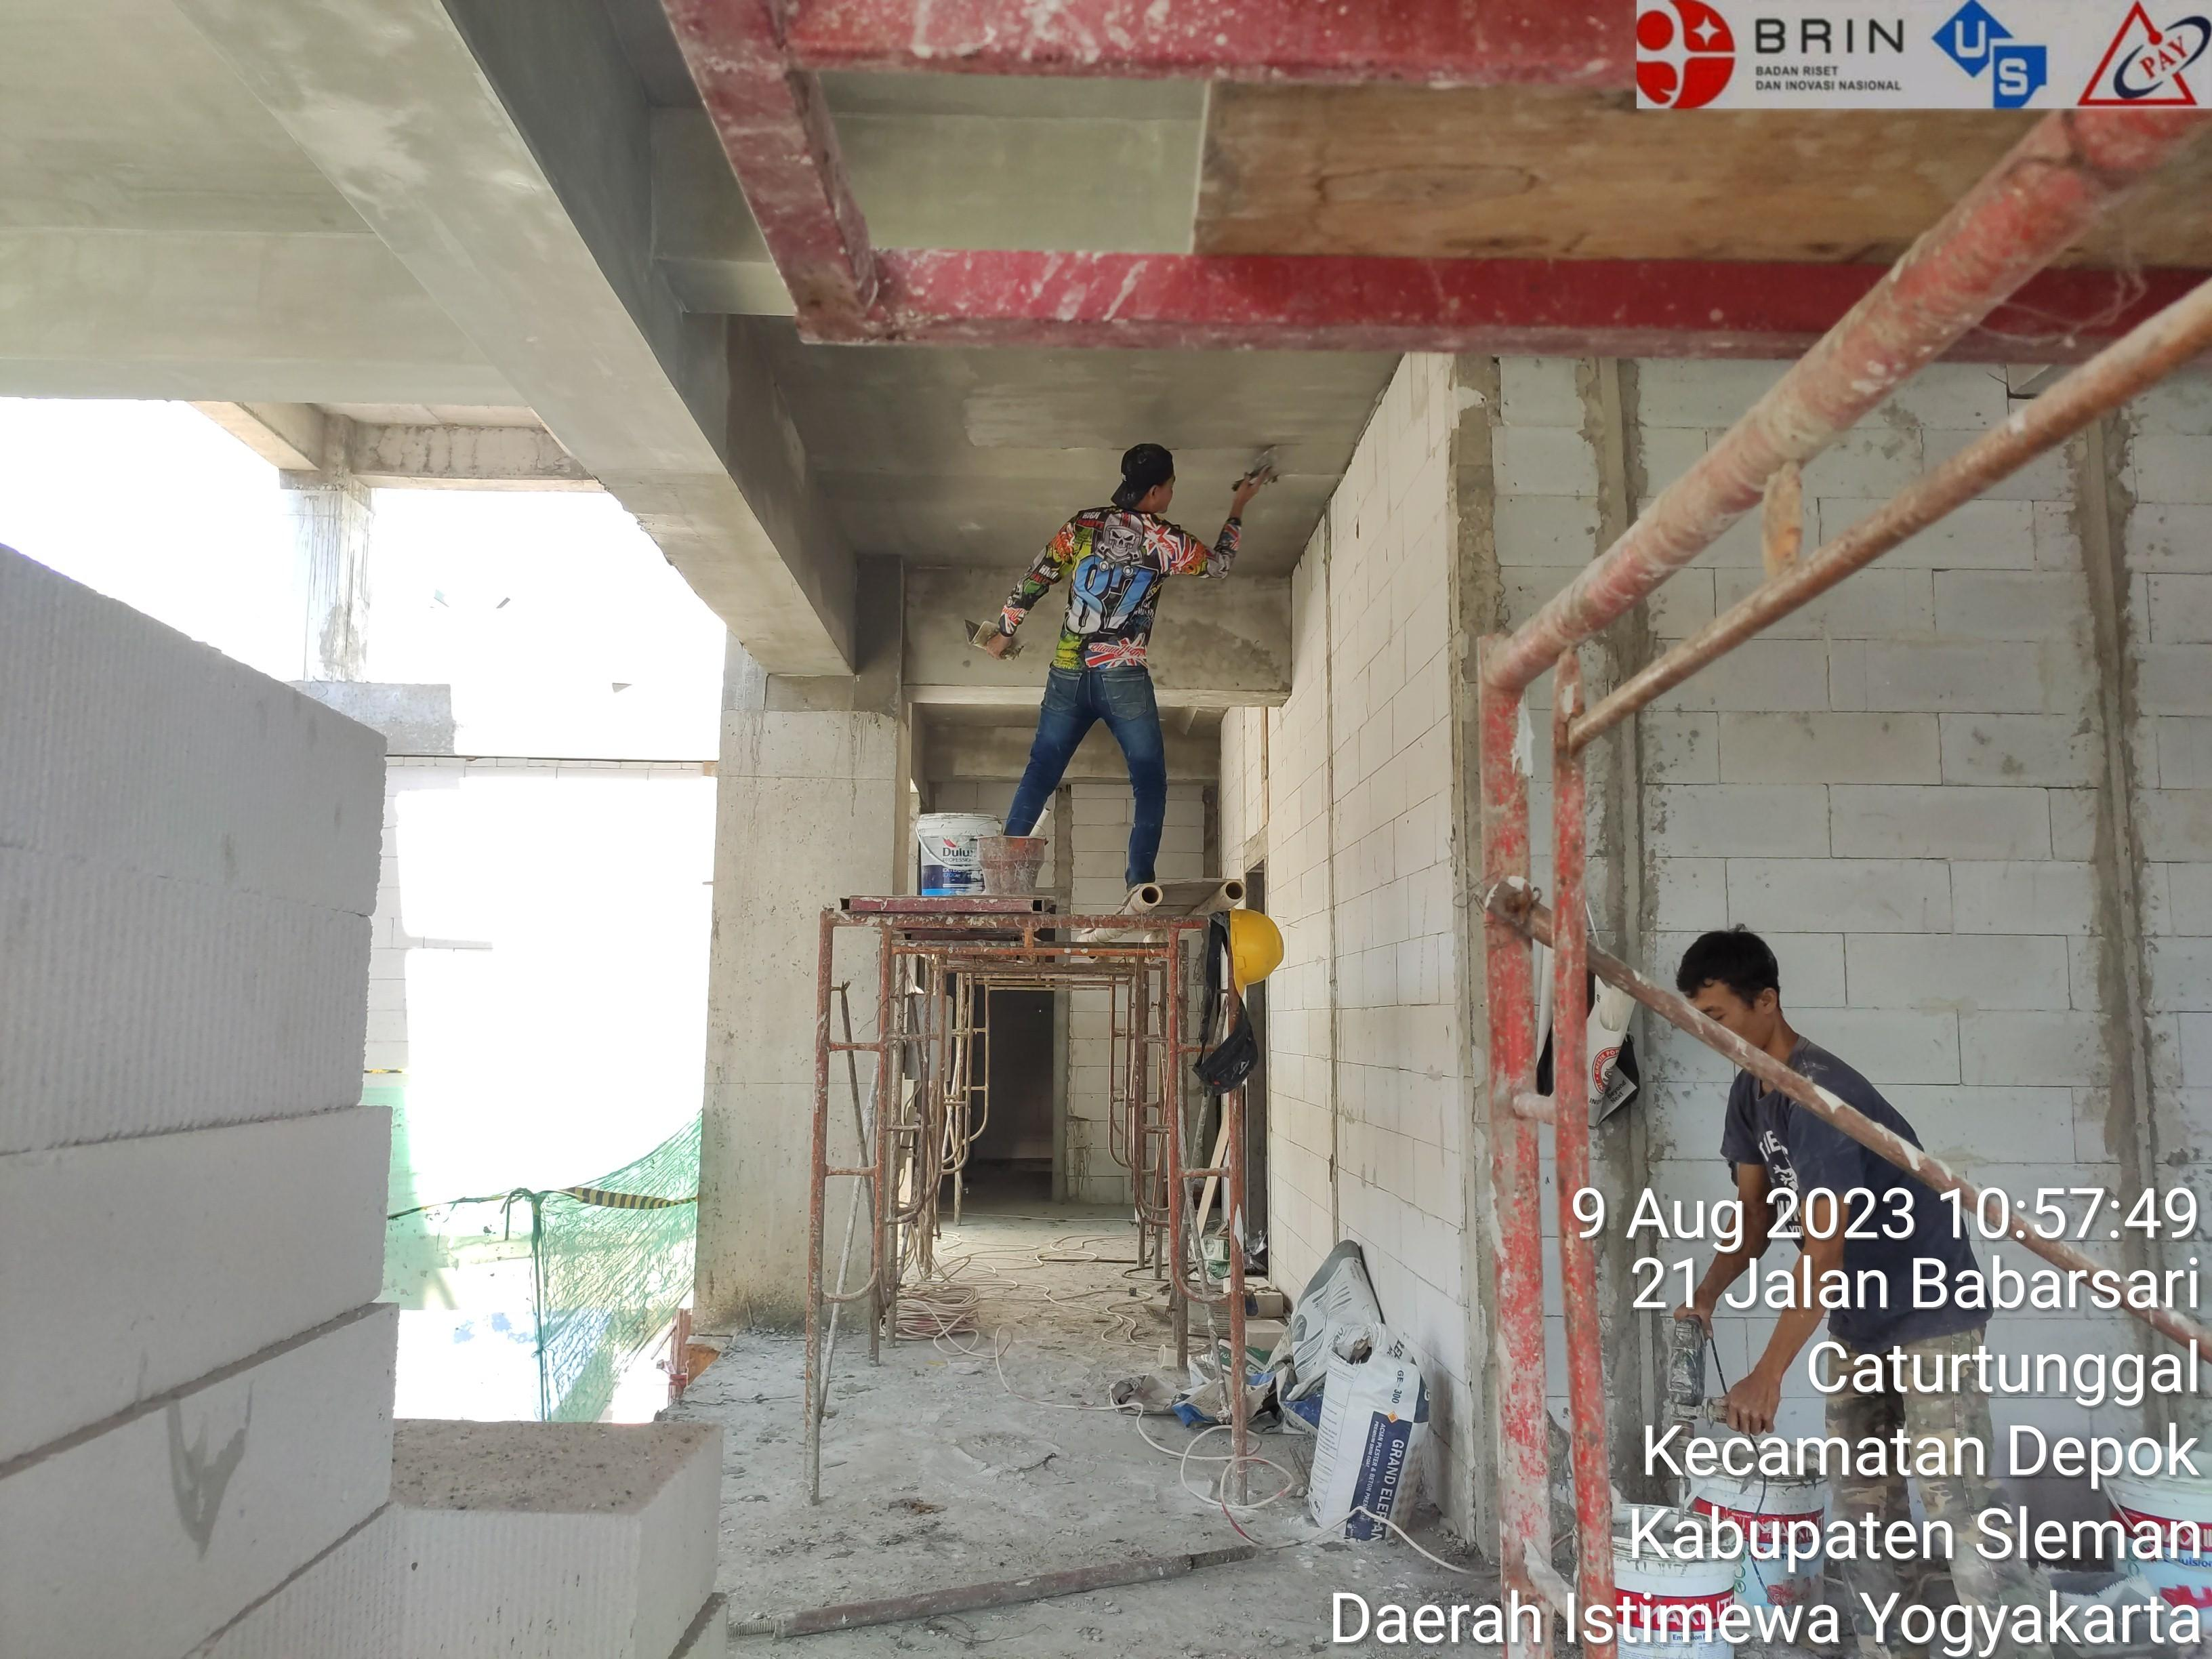no hat: (1647, 902, 1807, 1082), (1102, 401, 1207, 553)
no vest: (1688, 1048, 2027, 1349), (1048, 455, 1187, 716)
